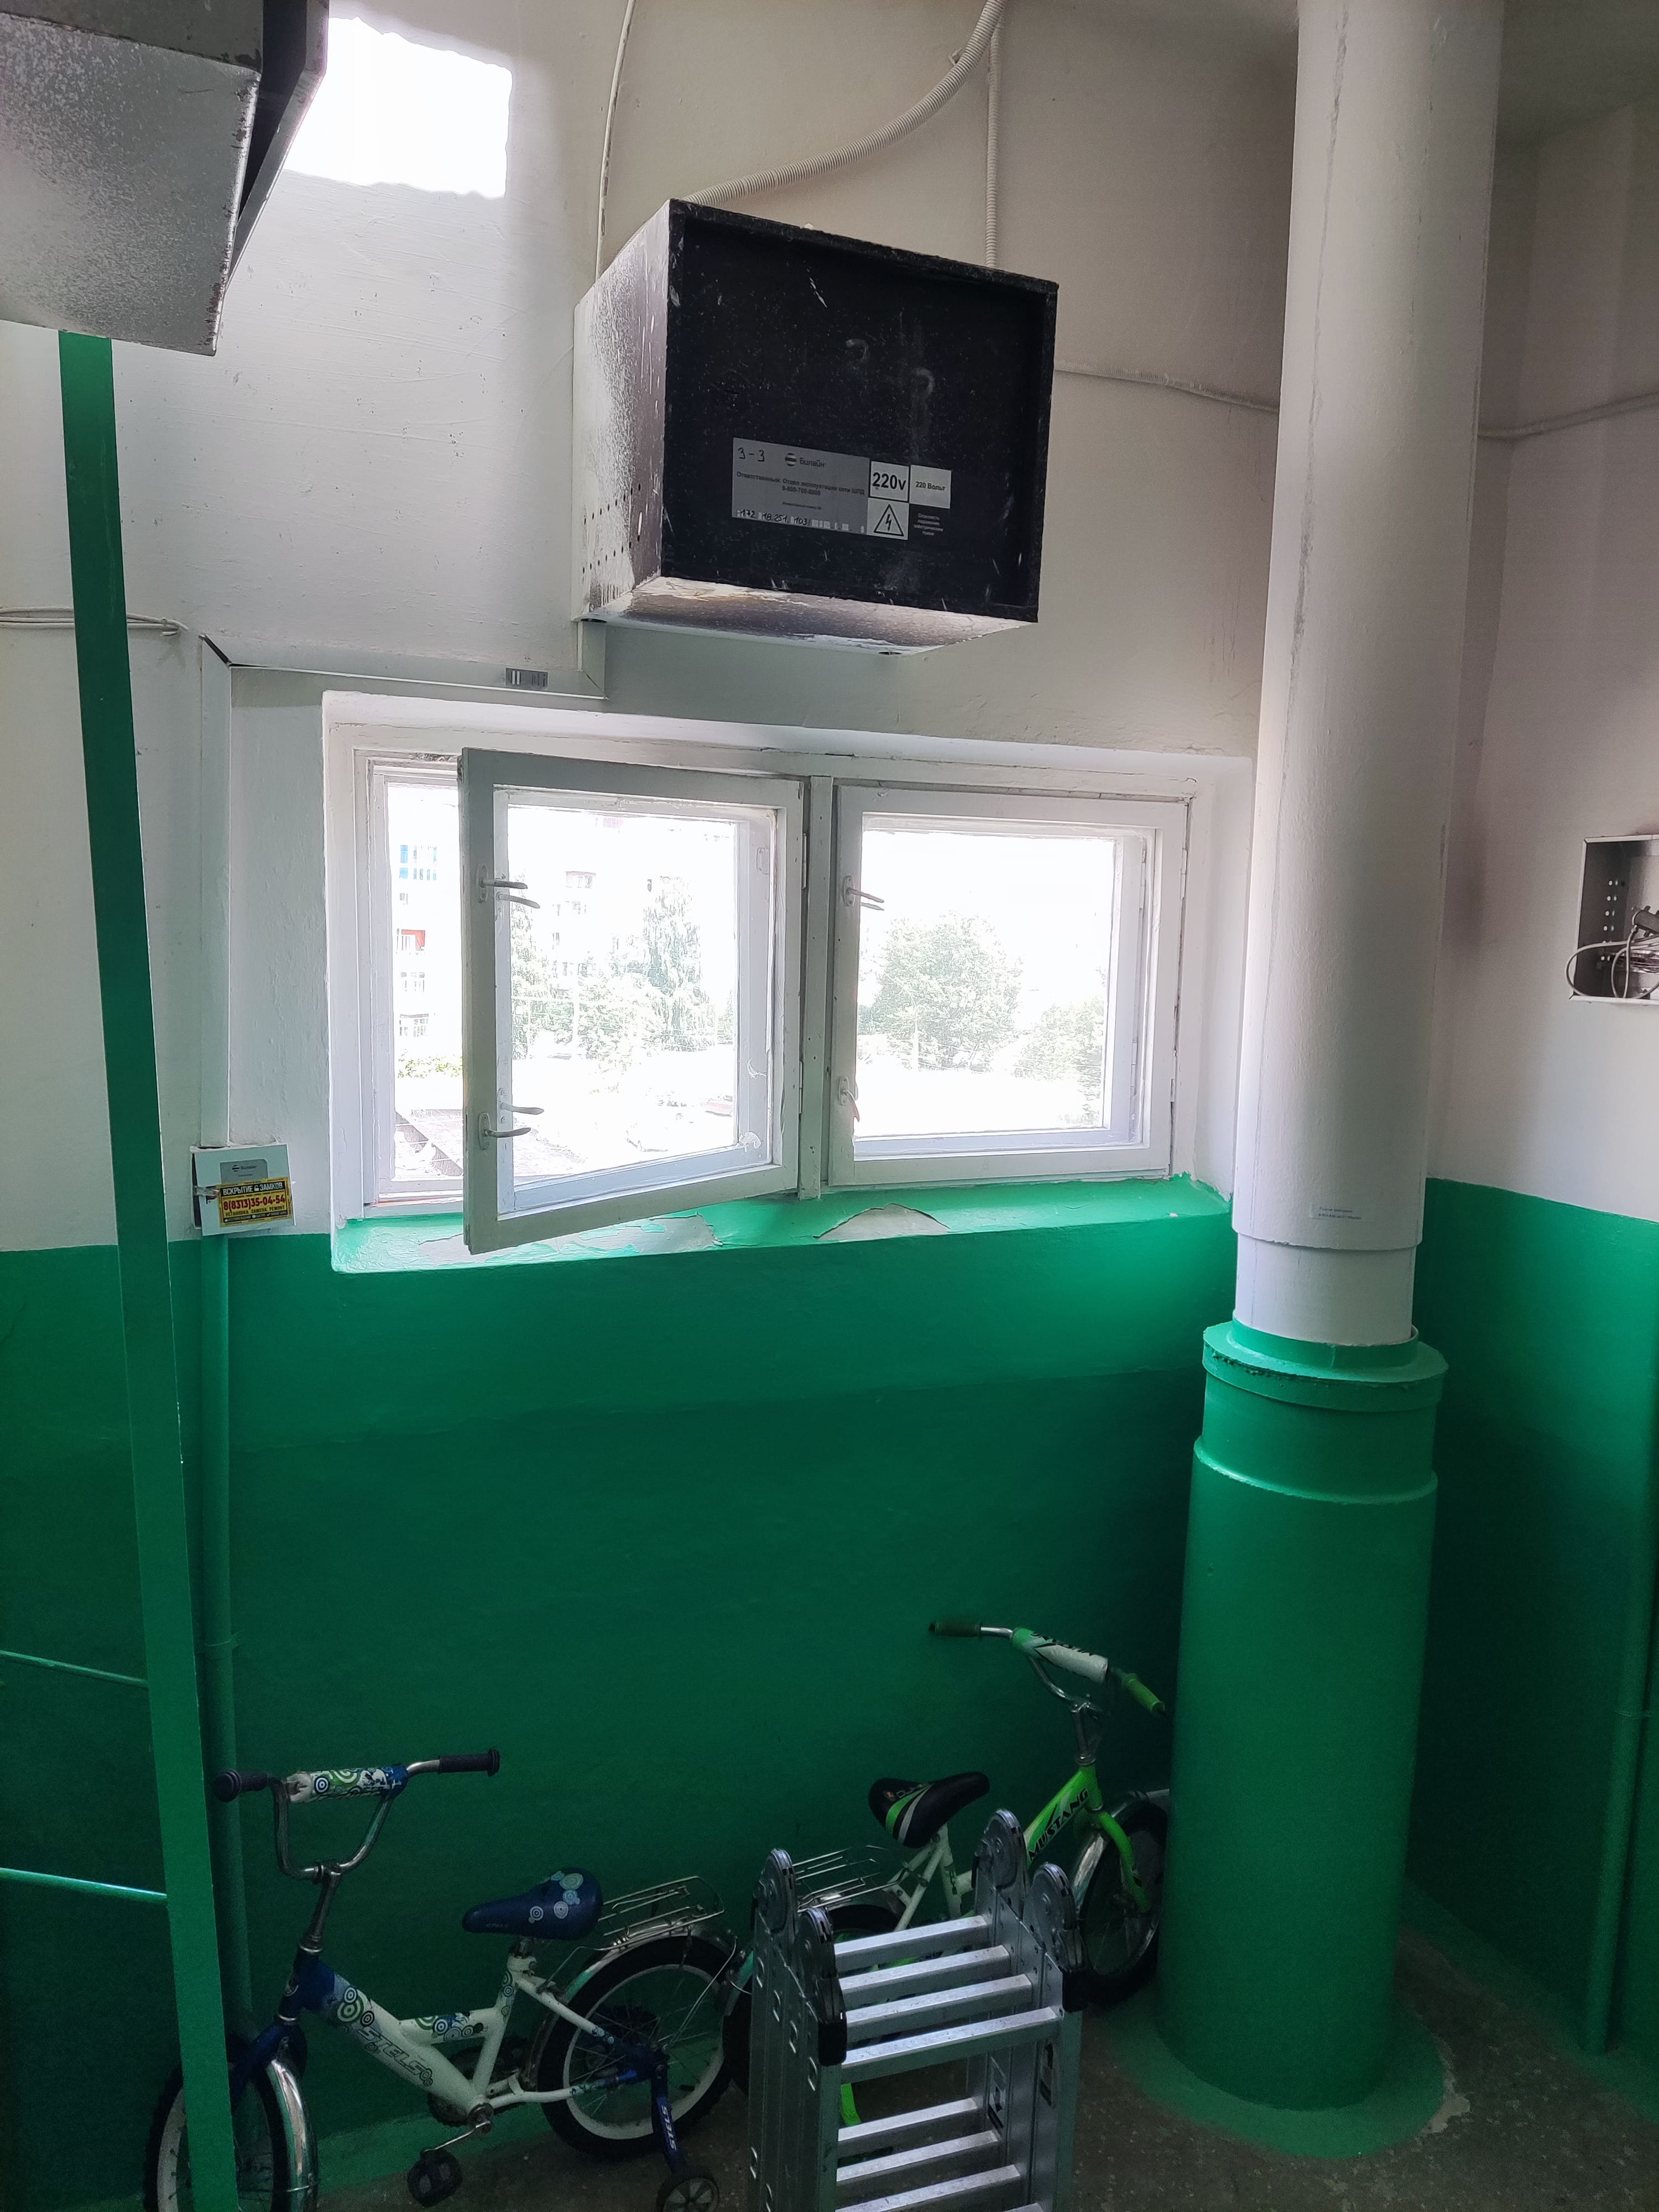shta-9m: (554, 188, 1066, 671)
